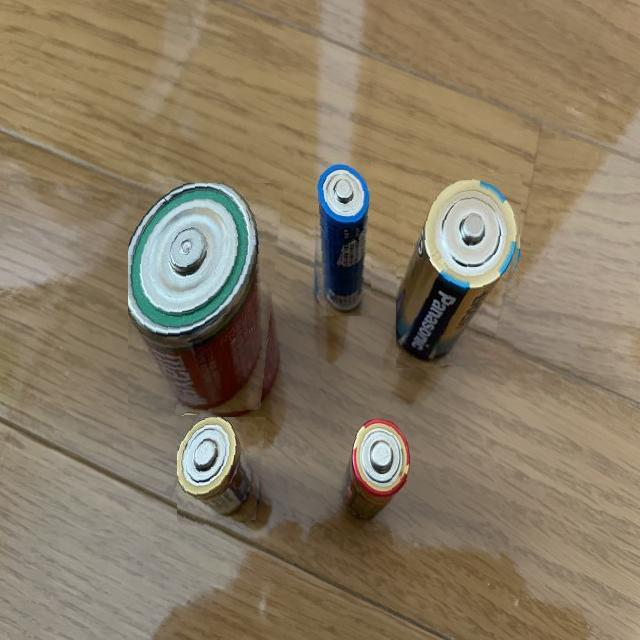battery: (128, 183, 285, 422), (396, 174, 523, 369), (308, 158, 372, 316), (178, 417, 268, 528), (340, 414, 410, 534)
